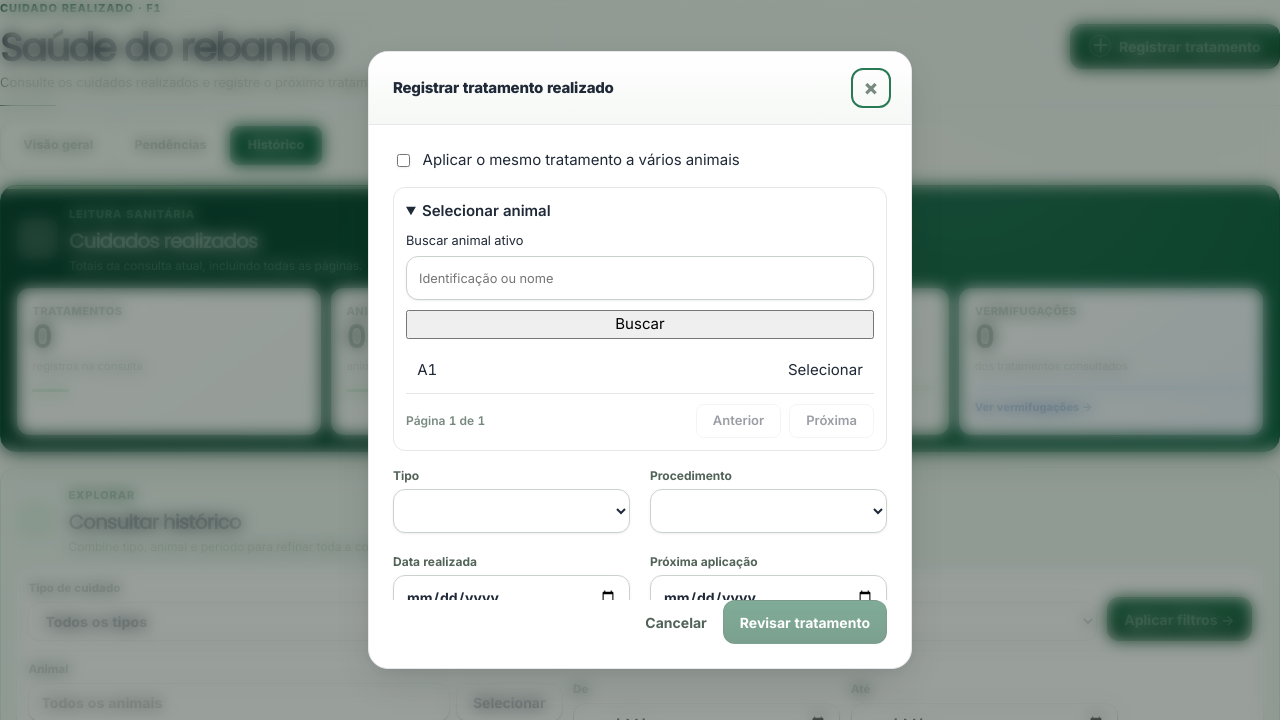
Test: HealthPageComponent procedureCode › mostra o campo Procedimento somente para vacinação
This screenshot has width=1280, height=720.
Select "Vermifugação" in the dropdown labelled "Tipo" at point(512, 511), box [393,489,630,533]
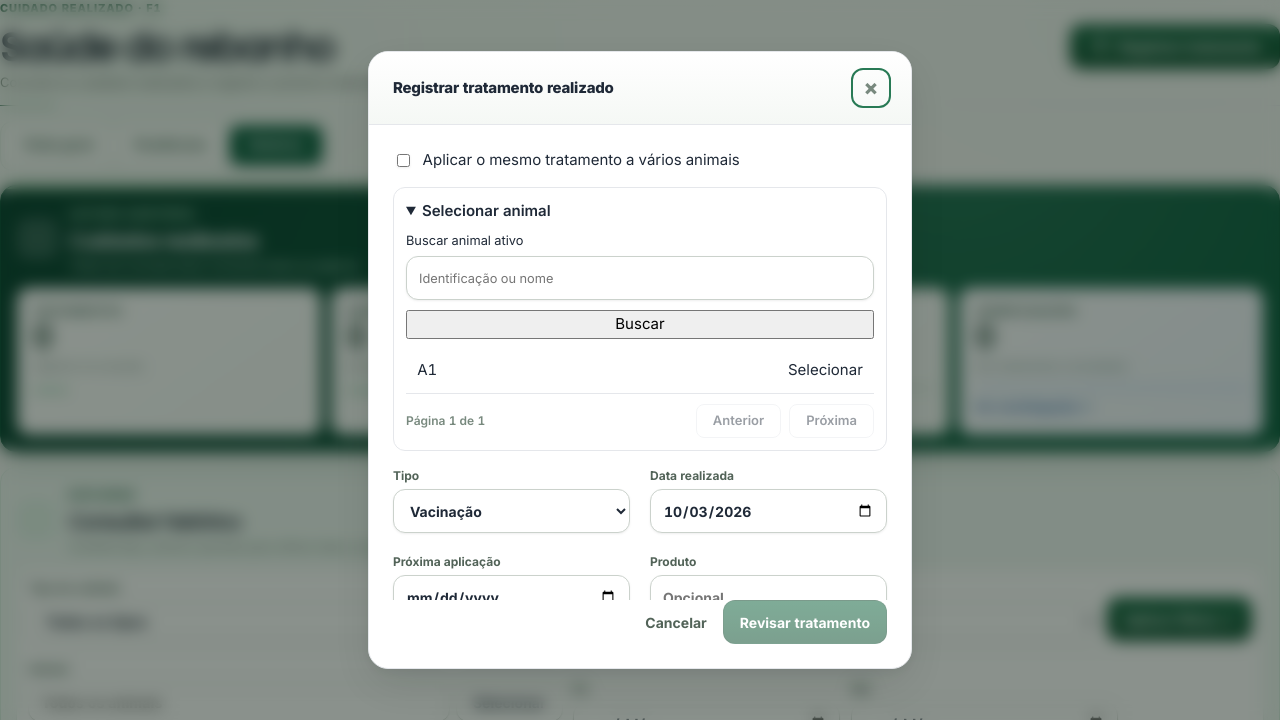
Check: the text "Procedimento" is gone
